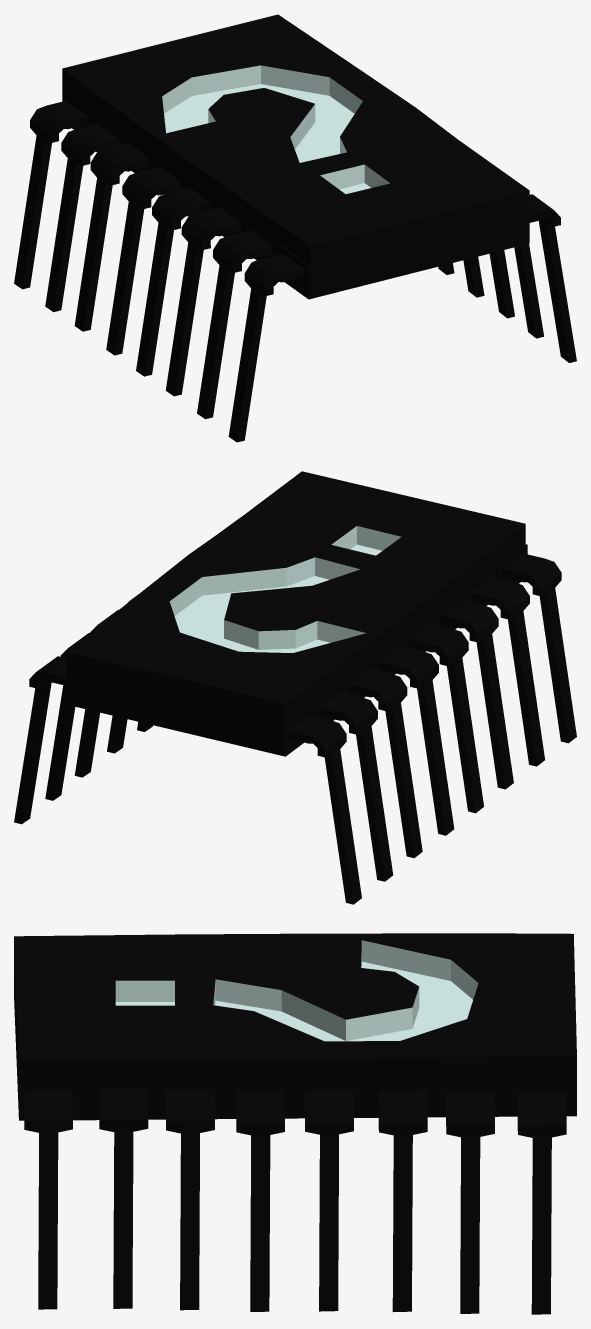
Rendered from chipMirror.fbx.
3 renders of one model, top to bottom at view 1: azimuth 30°, elevation 25°; view 2: azimuth 150°, elevation 25°; view 3: azimuth 270°, elevation 25°, orthographic. The views are drawn at different scales.
Parts seen in each view (by area): view 1: ChipMirror; view 2: ChipMirror; view 3: ChipMirror.
Part boxes in pixels (x1,y1,x2,y2): ChipMirror: (14,14,576,442); ChipMirror: (14,471,576,904); ChipMirror: (14,933,576,1314).
Size of the model in its own units: 201 by 111 by 252.
Materials: 1 (1 with a texture image).
